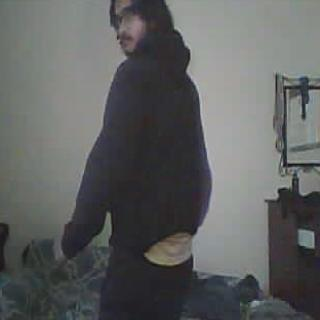Navy Sweatpants: (95, 254, 196, 320)
